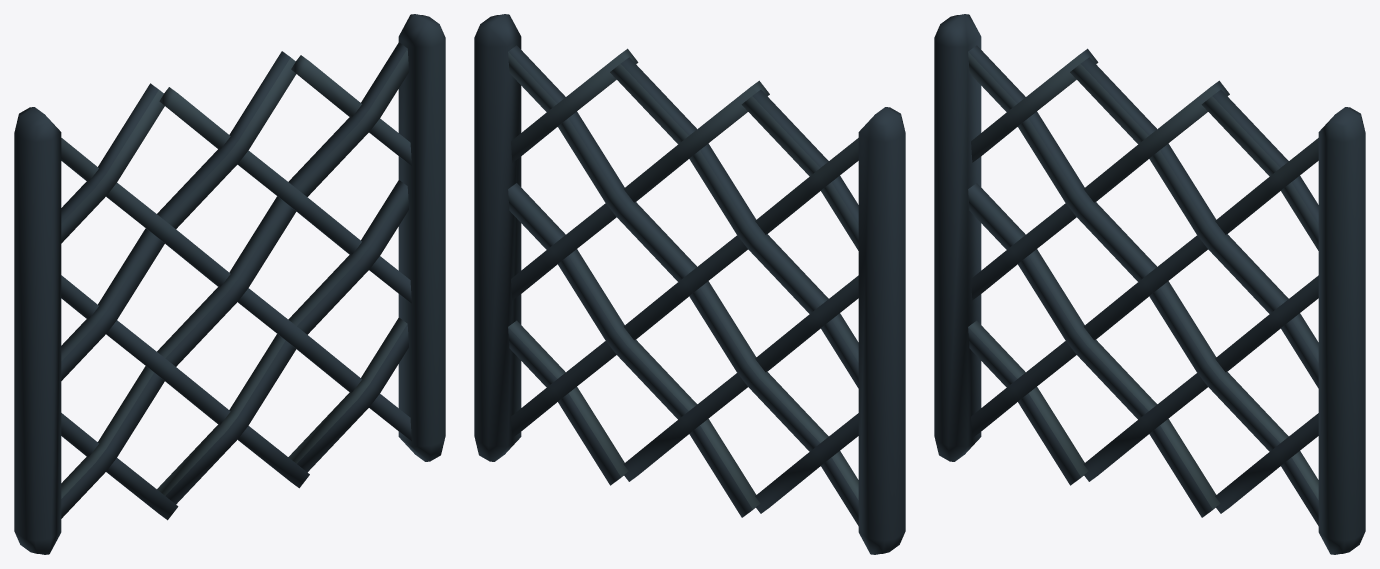
Rendered from Metal_Fence_Grid_Frame2.fbx.
3 views of the same model, side by side, from view 1: azimuth 30°, elevation 25°; view 2: azimuth 150°, elevation 25°; view 3: azimuth 330°, elevation 25° (orthographic).
Parts seen in each view (by area): view 1: Metal_Fence_Grid_Frame2_LOD0; view 2: Metal_Fence_Grid_Frame2_LOD0; view 3: Metal_Fence_Grid_Frame2_LOD0.
Part boxes in pixels (box(x1,y1,x2,y2)): Metal_Fence_Grid_Frame2_LOD0: box(14, 14, 445, 554); Metal_Fence_Grid_Frame2_LOD0: box(474, 14, 905, 554); Metal_Fence_Grid_Frame2_LOD0: box(934, 14, 1365, 554).
Size of what is drawn, in the model's own units: 1.07 by 1.07 by 0.1012.
